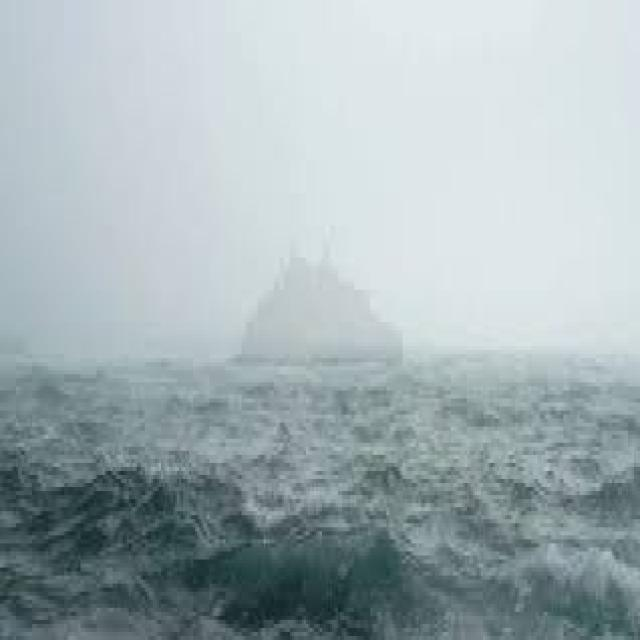cargoship: (244, 240, 402, 384)
